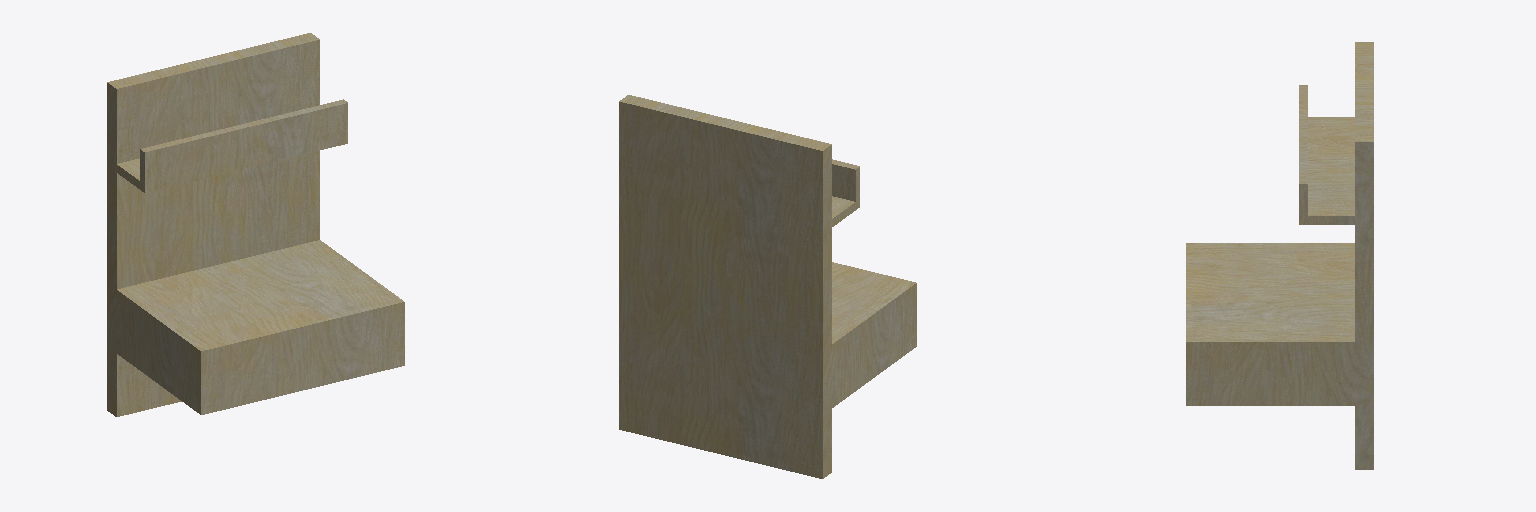
The picture shows the model from 3 angles: view 1: azimuth 30°, elevation 25°; view 2: azimuth 150°, elevation 25°; view 3: azimuth 270°, elevation 25°; orthographic projection.
Parts seen in each view (by area): view 1: Mesh1 Group1 Model; view 2: Mesh1 Group1 Model; view 3: Mesh1 Group1 Model.
Part boxes in pixels (x1,y1,x2,y2): Mesh1 Group1 Model: (107, 33, 404, 416); Mesh1 Group1 Model: (619, 95, 916, 478); Mesh1 Group1 Model: (1186, 42, 1373, 469).
Bounding box in the file's own units: 19.69 × 30.32 × 15.75.
1 materials, 1 textured.